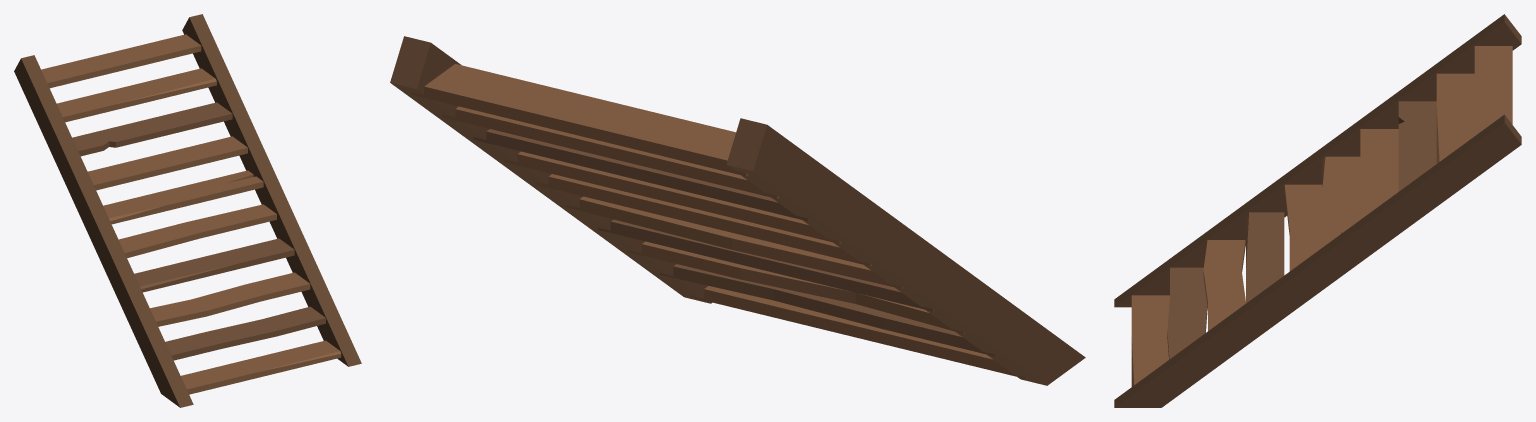
Rendered from HouseStairs_02.fbx.
3 renders of one model, left to right at view 1: azimuth 30°, elevation 25°; view 2: azimuth 150°, elevation 25°; view 3: azimuth 270°, elevation 25°, orthographic. The views are drawn at different scales.
Visible parts, largest first — view 1: HouseStairs_02_LOD0; view 2: HouseStairs_02_LOD0; view 3: HouseStairs_02_LOD0.
Boxes of the visible parts, x1,y1,x2,y2 form: HouseStairs_02_LOD0: [14, 14, 361, 407]; HouseStairs_02_LOD0: [390, 36, 1085, 385]; HouseStairs_02_LOD0: [1114, 14, 1521, 407].
Size of what is drawn, in the model's own units: 1.25 by 1.53 by 1.98.
